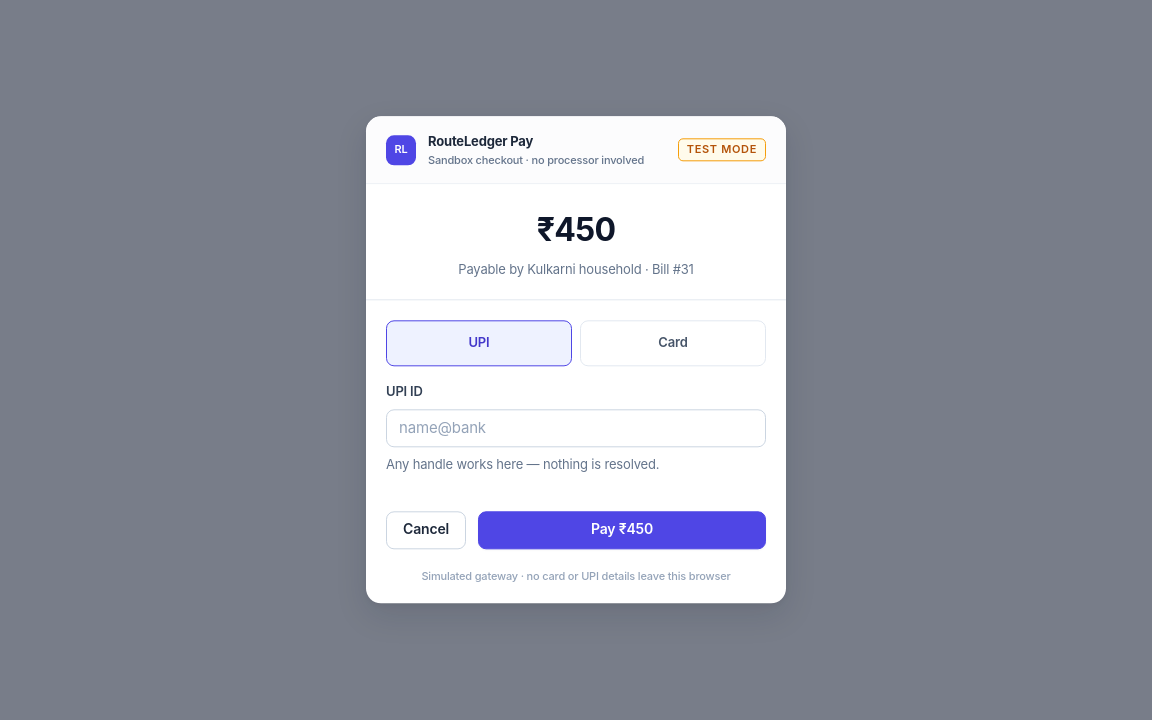
it: components/PaymentGatewaySimulator.jsx › persists the payment through the real endpoint once authorised
Type "kulkarni@okaxis" into the field labelled "UPI ID Any handle works here — nothing is resolved." at coordinates (576, 428), box [386, 409, 766, 447]
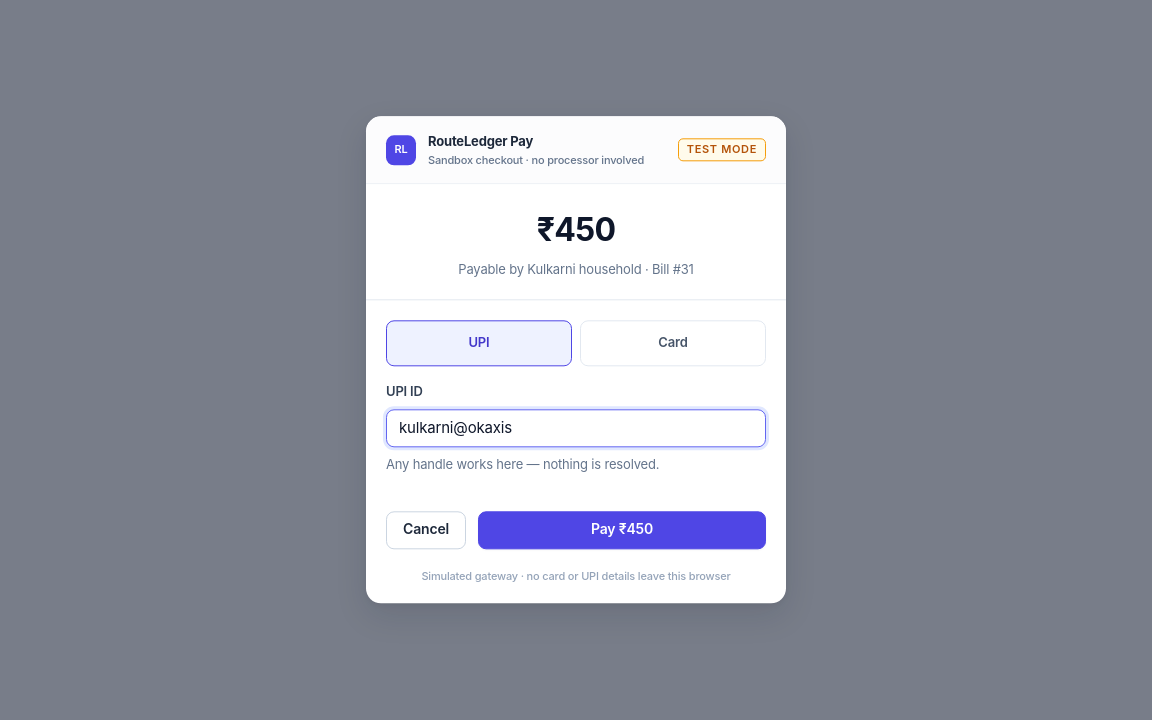
Click the button "Pay ₹450" at coordinates (622, 530), box [478, 511, 766, 549]
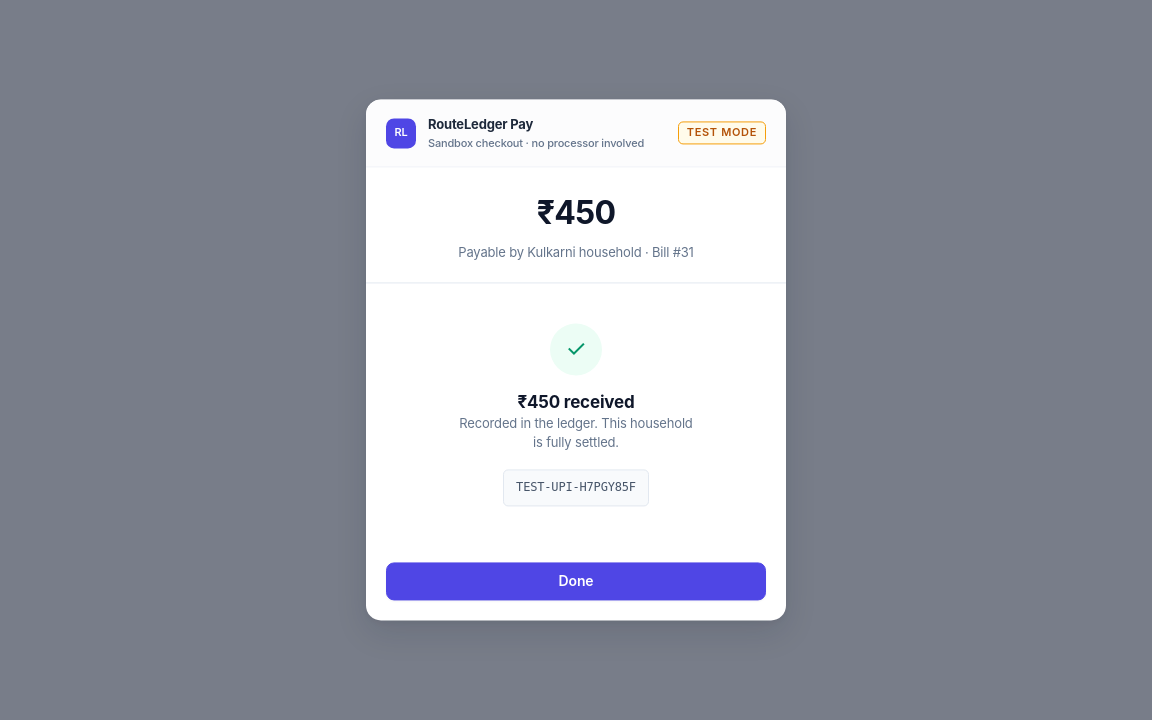
Check: the text "Recorded in the ledger. This household is fully settled." is shown, box [453, 414, 699, 453]
